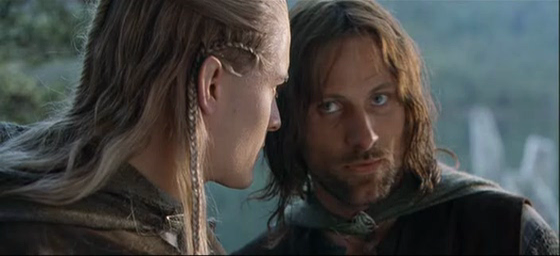cu: (1, 1, 560, 256)
face: (310, 57, 404, 203), (224, 23, 290, 189)
ots: (1, 1, 291, 256)
person: (227, 1, 560, 256)
